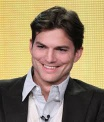male: (24, 9, 89, 88)
